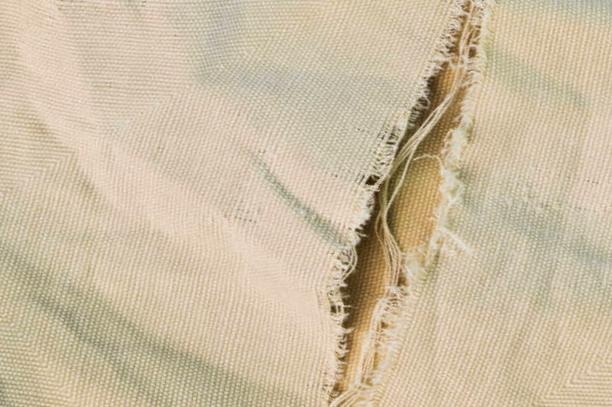hole: (359, 7, 454, 399)
